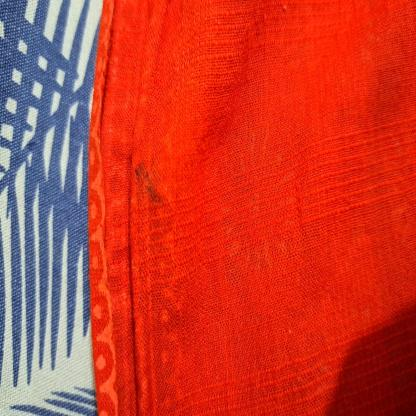spot: (134, 157, 168, 216)
